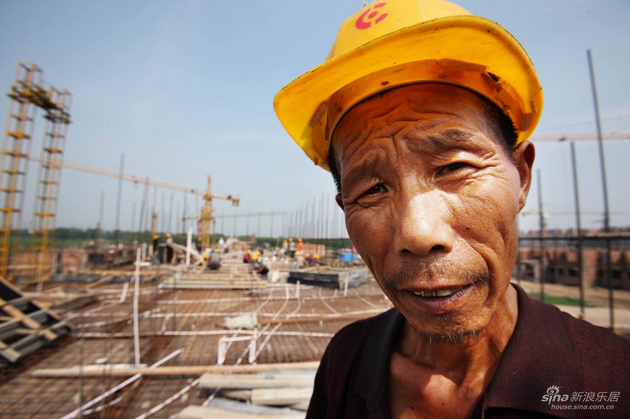cap: (233, 2, 586, 176)
